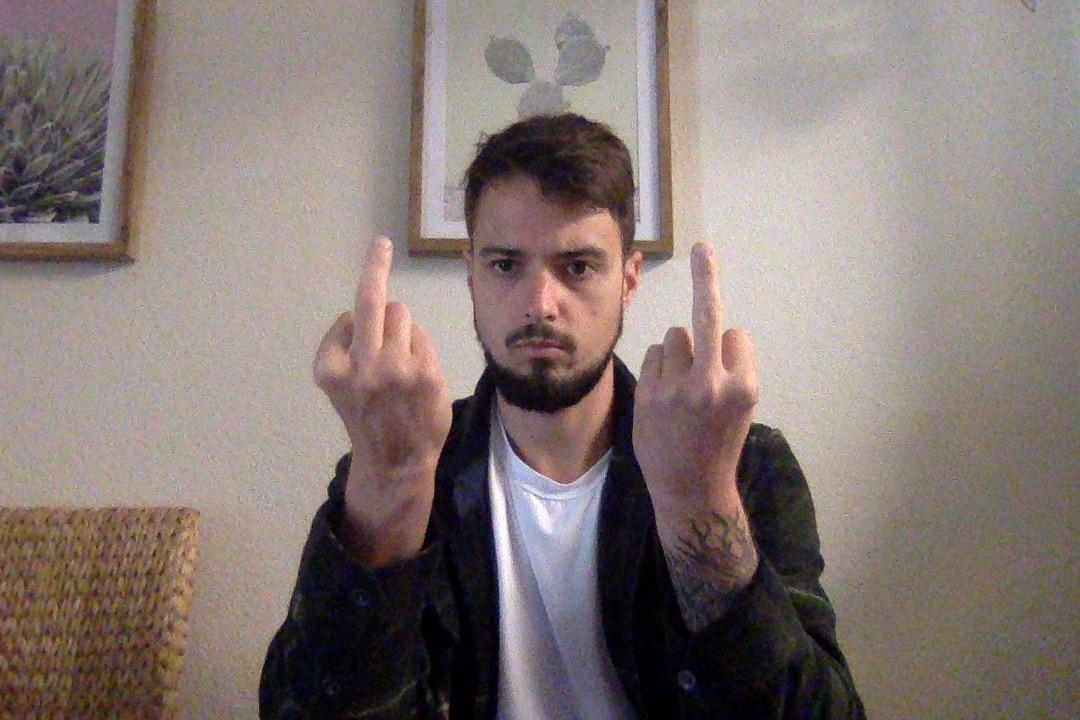Middle: (322, 230, 448, 458), (641, 229, 751, 489)
